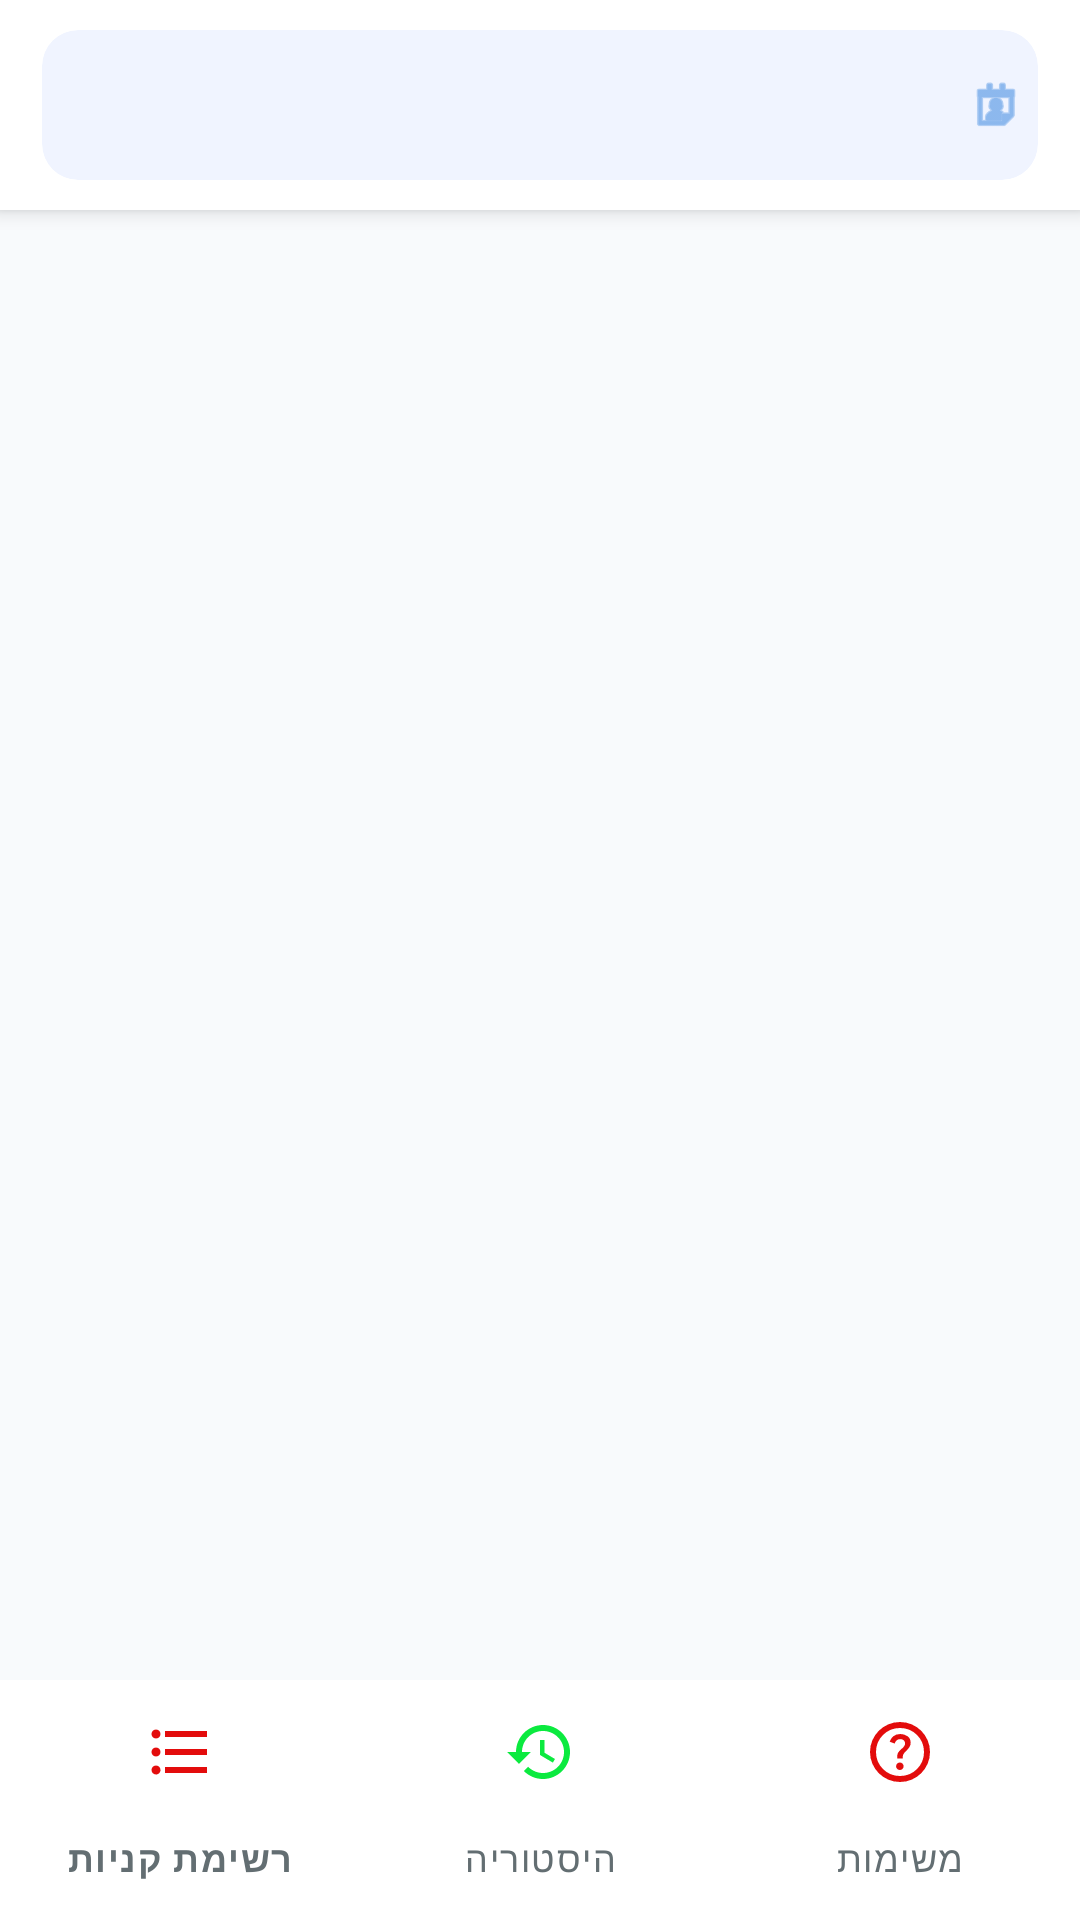

Screen size 1080w x 1920h. Icon name, then its box in pixels as [left=x1, top=y1, right=x2, bottom=y2]:
calendar: [left=977, top=82, right=1015, bottom=126]
